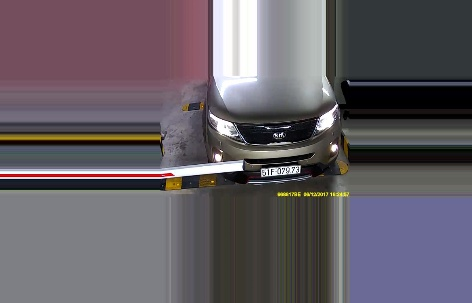plate: (262, 165, 299, 178)
